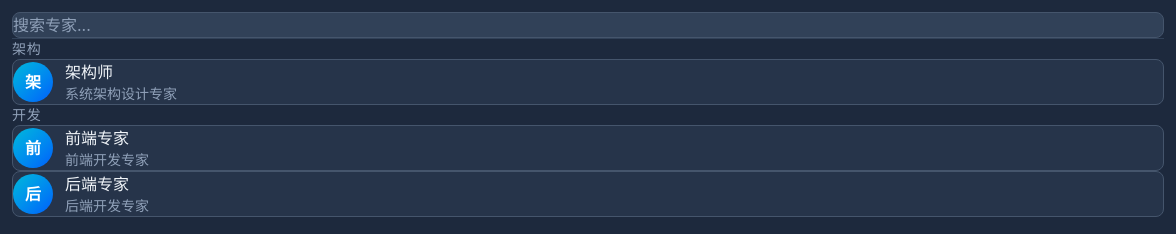
Test case: ExpertList › 应该支持搜索过滤
In the field with placeholder "搜索专家...": (588, 25) x1=12 y1=12 x2=1164 y2=38, type "前端"
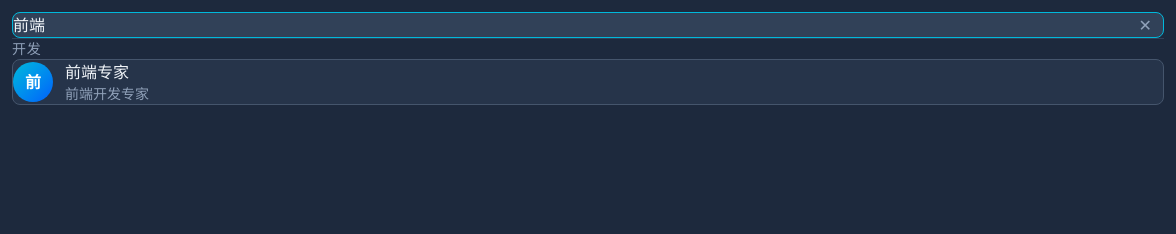
Expected: the heading "前端专家" is shown, x1=65 y1=62 x2=129 y2=82
Expected: the button "架构师" is gone
Expected: the button "后端专家" is gone
